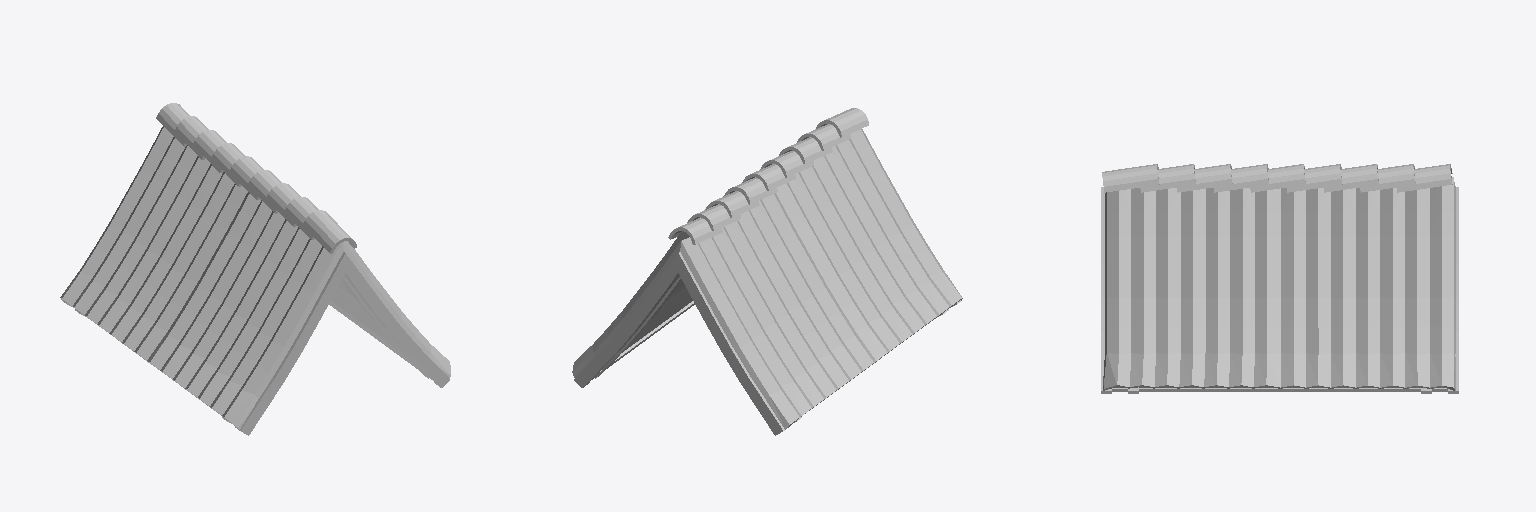
The model's file is Roof_RoundTiles_4x6.obj.
3 views of the same model, side by side, from view 1: azimuth 30°, elevation 25°; view 2: azimuth 150°, elevation 25°; view 3: azimuth 270°, elevation 25° (orthographic).
Parts seen in each view (by area): view 1: Roof_RoundTiles_4x6; view 2: Roof_RoundTiles_4x6; view 3: Roof_RoundTiles_4x6.
Part boxes in pixels (left/top/right/bottom): Roof_RoundTiles_4x6: left=60, top=103, right=450, bottom=435; Roof_RoundTiles_4x6: left=572, top=108, right=962, bottom=435; Roof_RoundTiles_4x6: left=1101, top=164, right=1458, bottom=393.
Bounding box in the file's own units: 5.51 × 4.23 × 7.57.